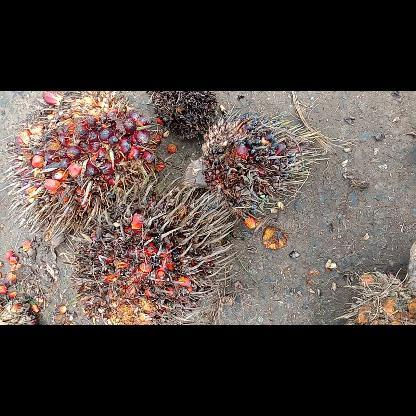TBS abnormal: (179, 107, 329, 214), (144, 92, 220, 142)
TBS masak: (6, 92, 164, 240)
Terlalu masak: (69, 180, 241, 324)
